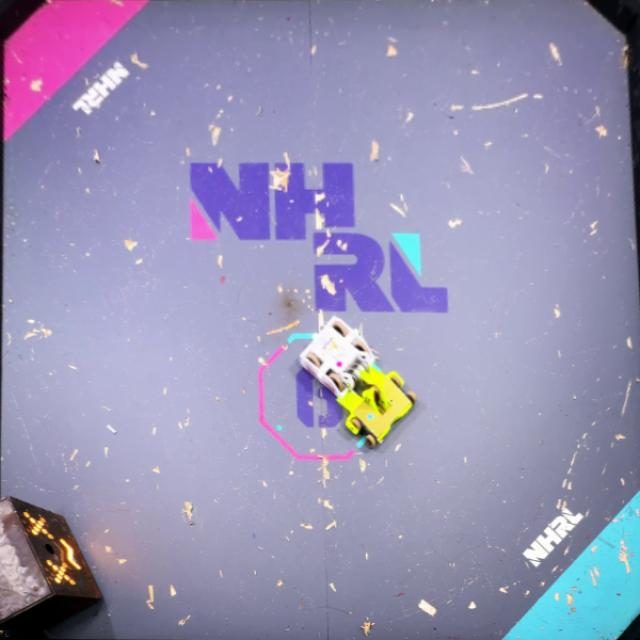housebot: (0, 496, 102, 640)
robot: (336, 366, 415, 448), (300, 315, 374, 399)
